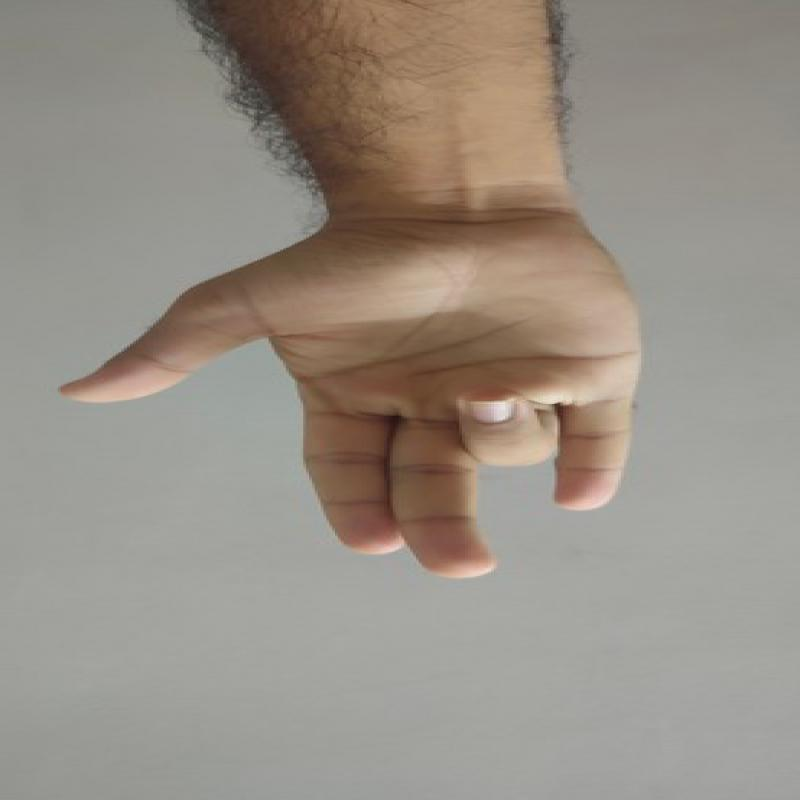Pathaaka: (41, 208, 650, 609)
